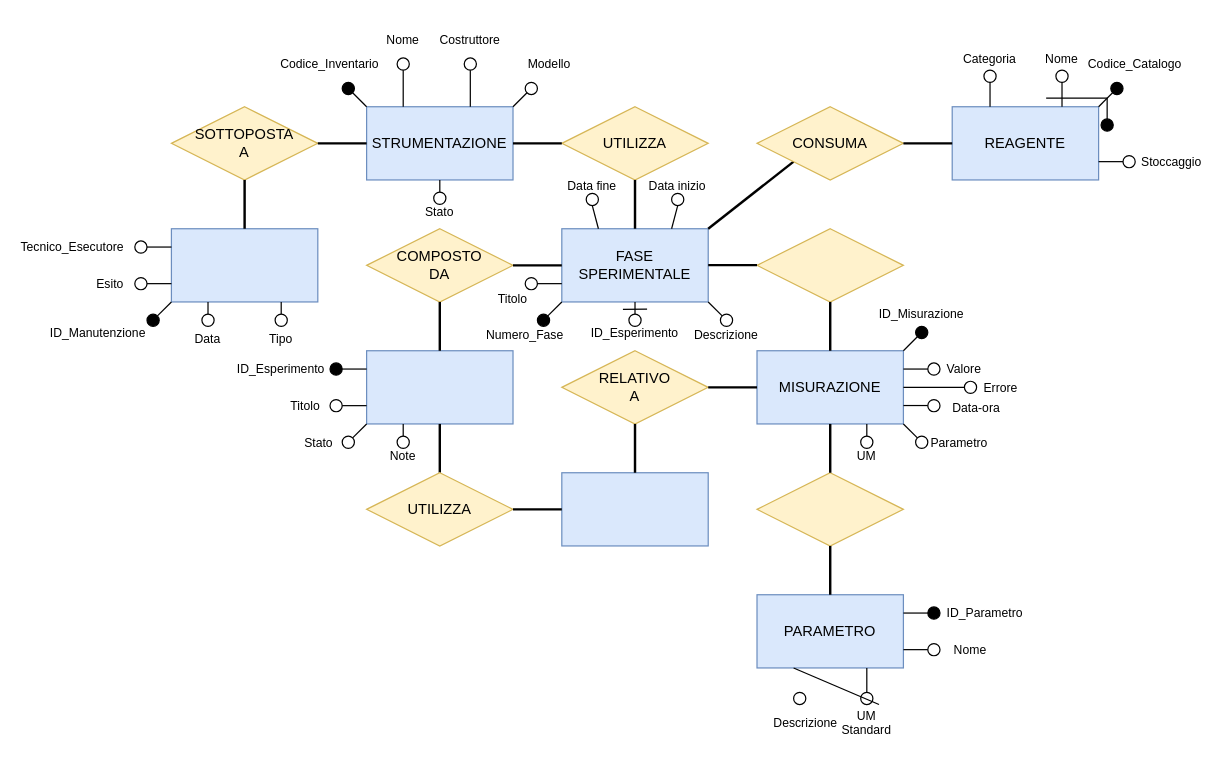
Image size: 1230x761. Some labels were removed from this diagram. Each missing label, with the centre of its shape:
"CAMPIONE" goes at (634,509).
"ESPERIMENTO" goes at (439,387).
"GENERA" goes at (829,265).
"MANUTENZIONE" goes at (244,265).
"RILEVA" goes at (829,509).
